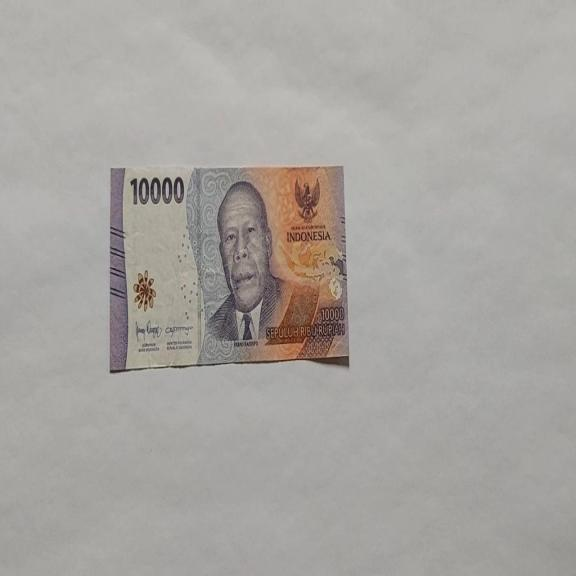Kertas: (109, 162, 350, 373), (129, 174, 185, 206)
